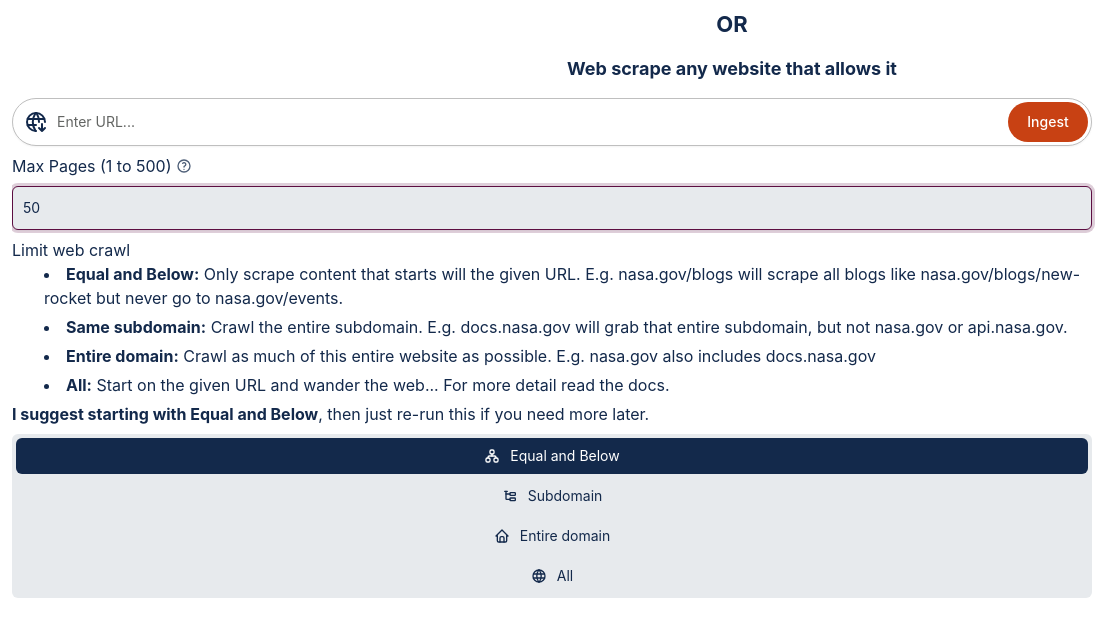
Test: WebScrape - additional coverage › validateInputs edge cases › shows error when maxUrls is out of range (greater than 500)
Replace the text in the field with placeholder "Default 50" with "501": (552, 208) [12, 186, 1092, 230]
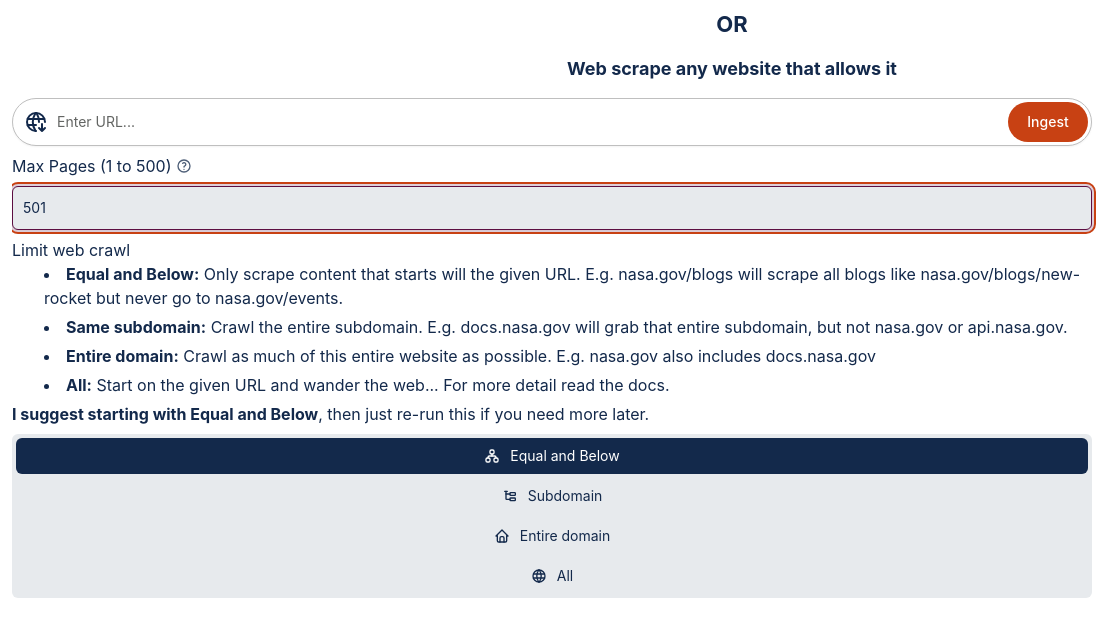
In the field with placeholder "Enter URL...": (552, 122) [12, 98, 1092, 146], type "https://example.com"
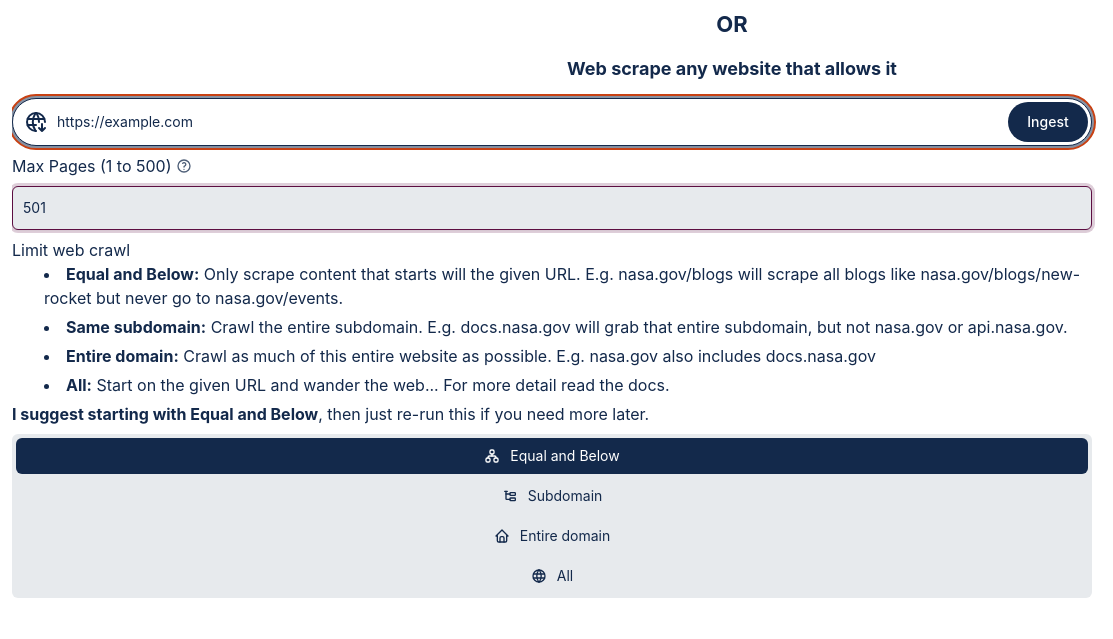
Click the button "Ingest": (1048, 122) [1008, 102, 1088, 142]
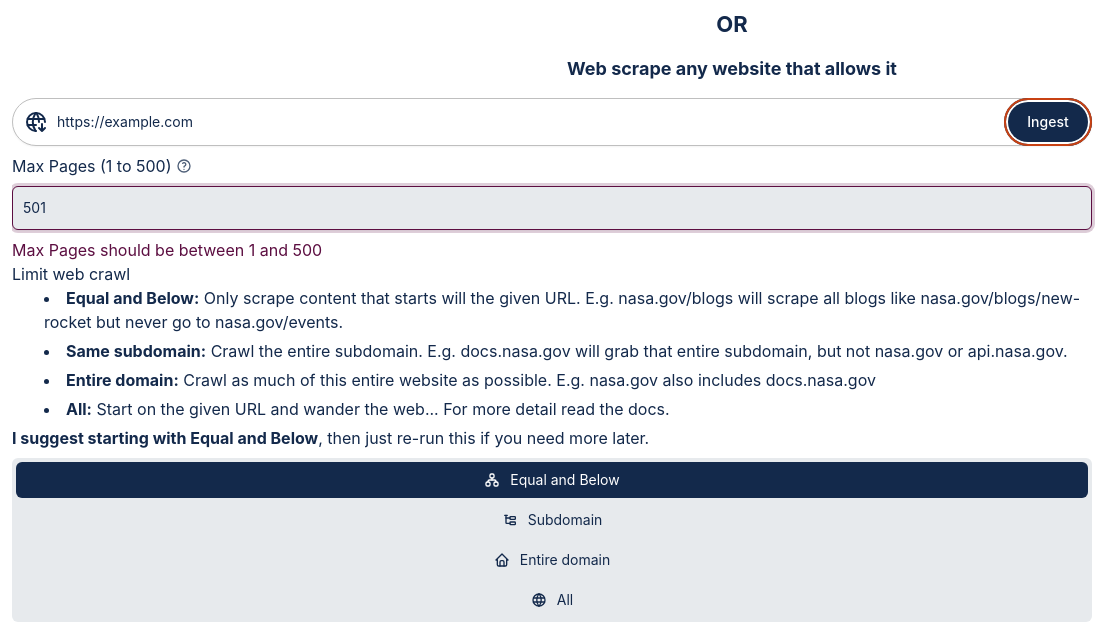
Expected: the text "Max Pages should be between 1 and 500" is shown, [12, 240, 322, 260]
